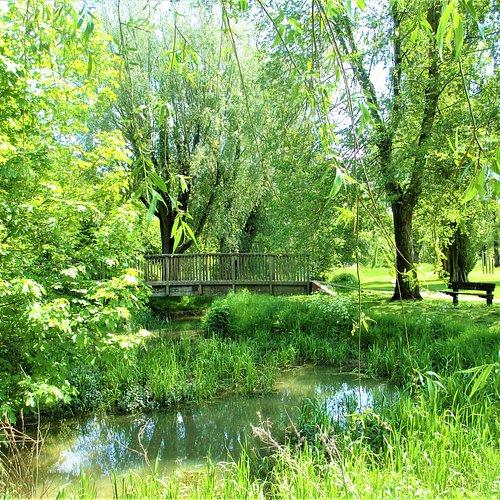overgrown grass: (110, 294, 499, 499), (47, 339, 298, 413)
